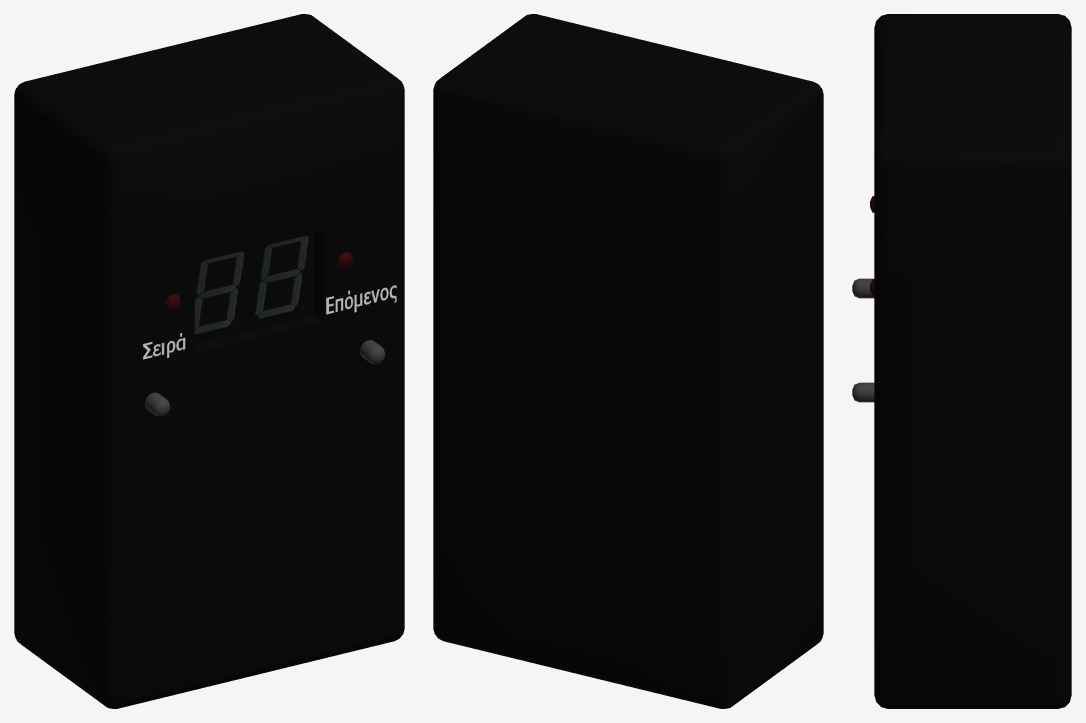
The model's file is device.obj.
The picture shows the model from 3 angles, left to right: view 1: azimuth 30°, elevation 25°; view 2: azimuth 150°, elevation 25°; view 3: azimuth 270°, elevation 25°; orthographic projection.
Visible parts, largest first — view 1: box, 7seg0, 7seg1; view 2: box; view 3: box, button2, button1.
Part boxes in pixels (<box>): box: <box>14,14,404,708</box>; 7seg0: <box>250,233,314,330</box>; 7seg1: <box>194,249,250,343</box>; box: <box>433,14,823,708</box>; box: <box>874,14,1071,708</box>; button2: <box>852,382,874,402</box>; button1: <box>852,278,874,298</box>.
Bounding box in the file's own units: 70 × 125 × 44.48.
